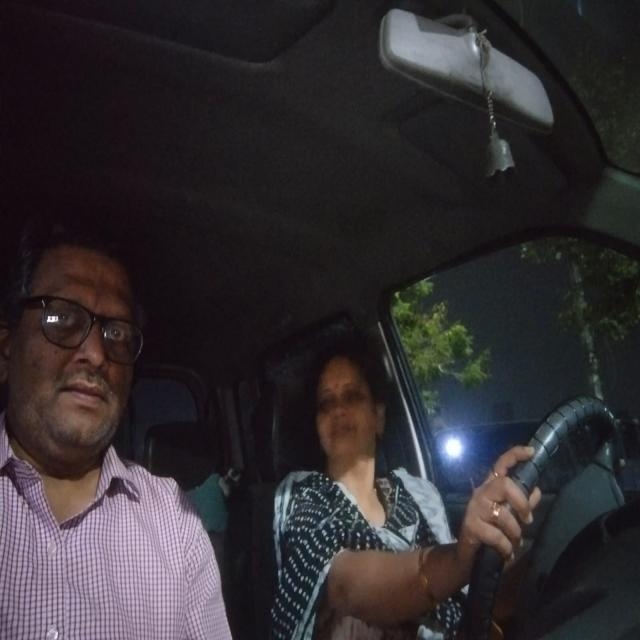LeftRight: (300, 332, 397, 477)
person: (1, 204, 156, 489)
